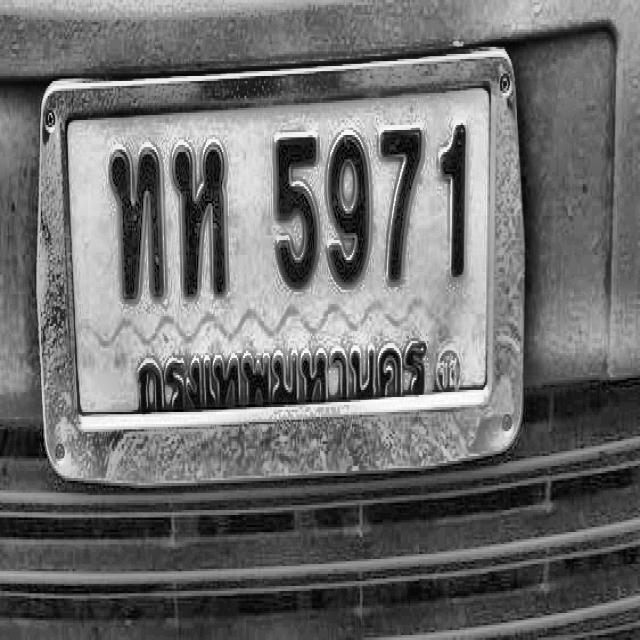license-plate: (25, 39, 550, 536)
